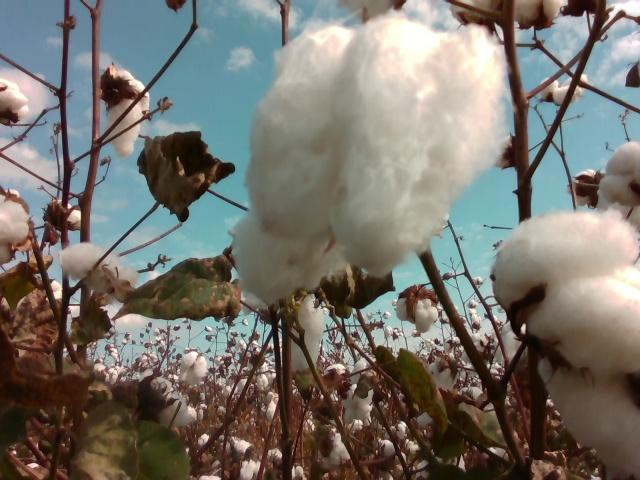cotton_ready: (231, 16, 512, 304), (496, 210, 640, 480), (243, 251, 328, 374), (59, 244, 142, 309), (104, 68, 150, 158), (136, 369, 196, 434), (602, 140, 640, 227), (0, 187, 32, 270), (540, 72, 589, 105), (397, 294, 439, 329), (0, 77, 30, 118), (515, 0, 564, 21), (51, 201, 84, 229)
